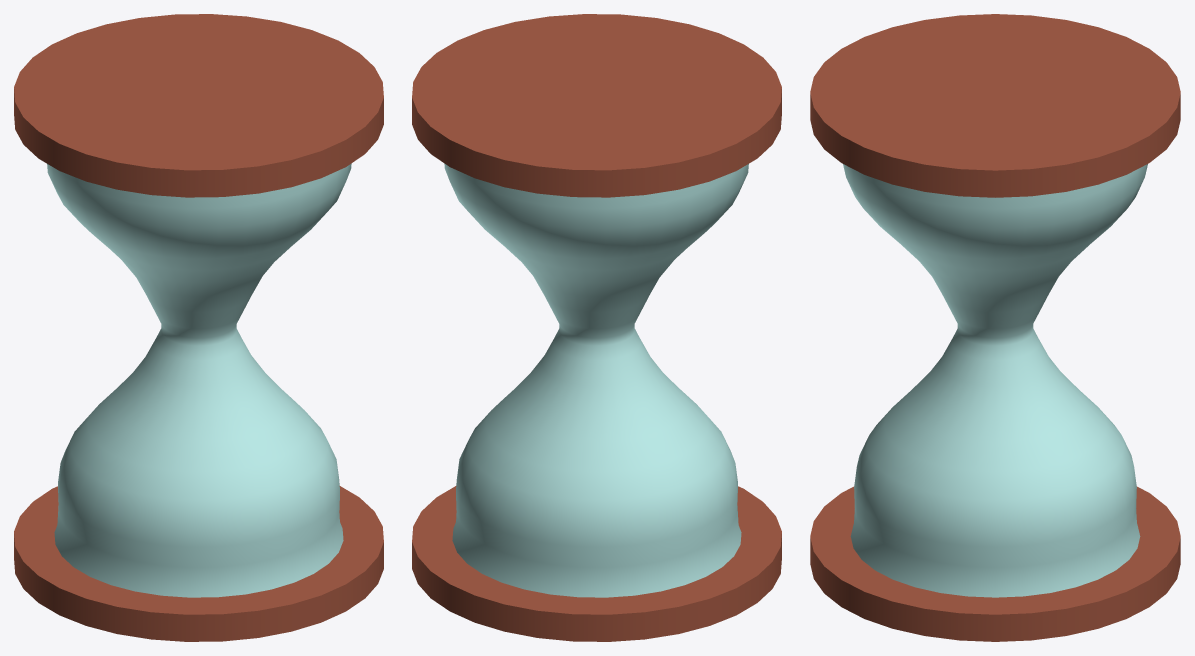
Rendered from Clock.fbx.
The picture shows the model from 3 angles, left to right: view 1: azimuth 30°, elevation 25°; view 2: azimuth 150°, elevation 25°; view 3: azimuth 270°, elevation 25°; orthographic projection.
Parts seen in each view (by area): view 1: Cylinder.001; view 2: Cylinder.001; view 3: Cylinder.001.
Part boxes in pixels (box(x1,y1,x2,y2)): Cylinder.001: box(14, 14, 383, 641); Cylinder.001: box(412, 14, 781, 641); Cylinder.001: box(810, 14, 1180, 641).
Size of the model in its own units: 200 by 281 by 200.
